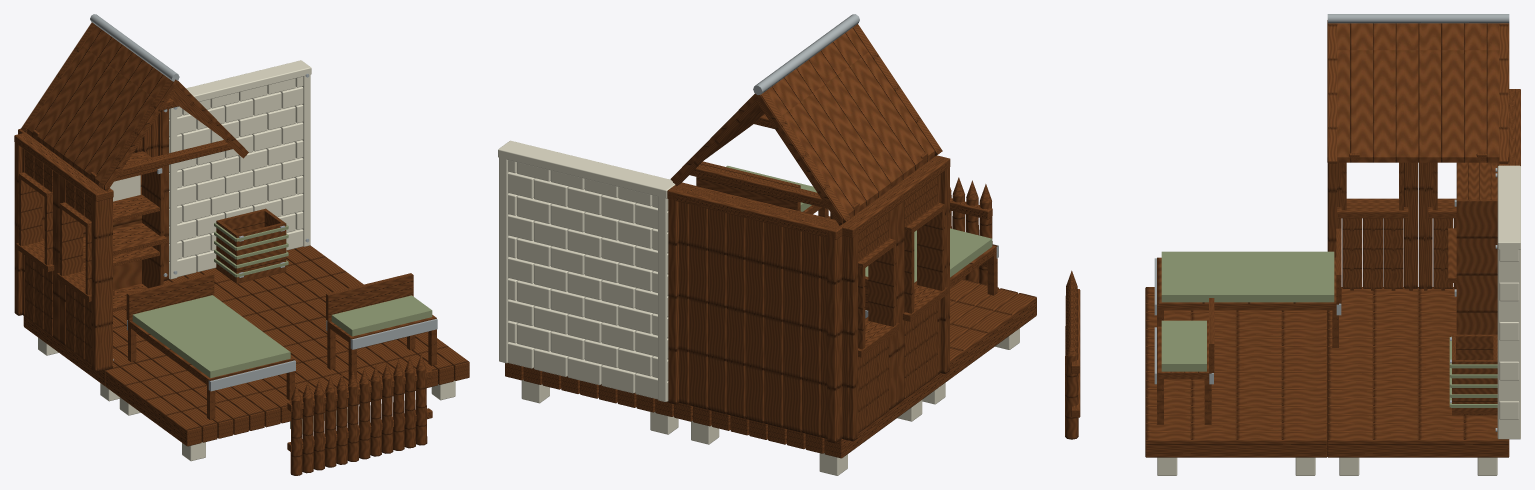
File: rural-scavenging-settlements-construction-and-service--fb25b6a3__26623.glb
The picture shows the model from 3 angles, left to right: view 1: azimuth 30°, elevation 25°; view 2: azimuth 150°, elevation 25°; view 3: azimuth 270°, elevation 25°; orthographic projection. The views are drawn at different scales.
Parts seen in each view (by area): view 1: 005-stone-cottage-solid-wall/0, 006-cottage-double-window-wall/0, 007-cottage-gable-roof/0, 012-picket-boundary/0, 001-cottage-footing/1, 011-cottage-bedframe/1, 002-cottage-footing/1, 003-cottage-footing/1, 009-kitchen-dresser/0, 011-cottage-bedframe/0, 010-corner-settle/0, 008-wicker-laundry-frame/0 (+9 smaller); view 2: 004-cottage-solid-wall/0, 005-stone-cottage-solid-wall/0, 006-cottage-double-window-wall/0, 007-cottage-gable-roof/0, 001-cottage-footing/1, 000-cottage-footing/1, 002-cottage-footing/1, 012-picket-boundary/0, 010-corner-settle/0, 011-cottage-bedframe/1, 007-cottage-gable-roof/1, 000-cottage-footing/0 (+2 smaller); view 3: 007-cottage-gable-roof/0, 003-cottage-footing/1, 002-cottage-footing/1, 006-cottage-double-window-wall/0, 000-cottage-footing/1, 011-cottage-bedframe/1, 009-kitchen-dresser/0, 001-cottage-footing/1, 005-stone-cottage-solid-wall/0, 008-wicker-laundry-frame/0, 011-cottage-bedframe/0, 012-picket-boundary/0 (+7 smaller).
Part boxes in pixels (left/top/right/bottom): 005-stone-cottage-solid-wall/0: left=169, top=60, right=311, bottom=279; 006-cottage-double-window-wall/0: left=14, top=133, right=114, bottom=372; 007-cottage-gable-roof/0: left=21, top=22, right=248, bottom=191; 012-picket-boundary/0: left=287, top=354, right=432, bottom=475; 001-cottage-footing/1: left=105, top=356, right=325, bottom=446; 011-cottage-bedframe/1: left=132, top=295, right=290, bottom=377; 002-cottage-footing/1: left=169, top=245, right=363, bottom=332; 003-cottage-footing/1: left=264, top=317, right=469, bottom=409; 009-kitchen-dresser/0: left=83, top=151, right=167, bottom=311; 011-cottage-bedframe/0: left=126, top=273, right=294, bottom=419; 010-corner-settle/0: left=326, top=273, right=436, bottom=382; 008-wicker-laundry-frame/0: left=216, top=208, right=286, bottom=283; 004-cottage-solid-wall/0: left=667, top=182, right=846, bottom=443; 005-stone-cottage-solid-wall/0: left=498, top=140, right=675, bottom=401; 006-cottage-double-window-wall/0: left=836, top=155, right=950, bottom=441; 007-cottage-gable-roof/0: left=670, top=24, right=942, bottom=225; 001-cottage-footing/1: left=939, top=279, right=1036, bottom=386; 000-cottage-footing/1: left=674, top=374, right=938, bottom=458; 002-cottage-footing/1: left=505, top=363, right=673, bottom=416; 012-picket-boundary/0: left=828, top=177, right=992, bottom=284; 010-corner-settle/0: left=696, top=161, right=828, bottom=217; 011-cottage-bedframe/1: left=865, top=228, right=992, bottom=282; 007-cottage-gable-roof/1: left=753, top=14, right=859, bottom=94; 000-cottage-footing/0: left=691, top=400, right=922, bottom=475; 007-cottage-gable-roof/0: left=1327, top=20, right=1509, bottom=163; 003-cottage-footing/1: left=1145, top=364, right=1327, bottom=457; 002-cottage-footing/1: left=1327, top=364, right=1509, bottom=457; 006-cottage-double-window-wall/0: left=1327, top=162, right=1456, bottom=290; 000-cottage-footing/1: left=1327, top=287, right=1456, bottom=364; 011-cottage-bedframe/1: left=1161, top=251, right=1334, bottom=302; 009-kitchen-dresser/0: left=1447, top=162, right=1497, bottom=334; 001-cottage-footing/1: left=1145, top=287, right=1327, bottom=364; 005-stone-cottage-solid-wall/0: left=1497, top=165, right=1520, bottom=439; 008-wicker-laundry-frame/0: left=1452, top=334, right=1497, bottom=415; 011-cottage-bedframe/0: left=1157, top=228, right=1341, bottom=347; 012-picket-boundary/0: left=1065, top=270, right=1080, bottom=439.
Bounding box in the file's own units: 4.16 × 4.27 × 5.01.
Materials: 4 (1 with a texture image).
